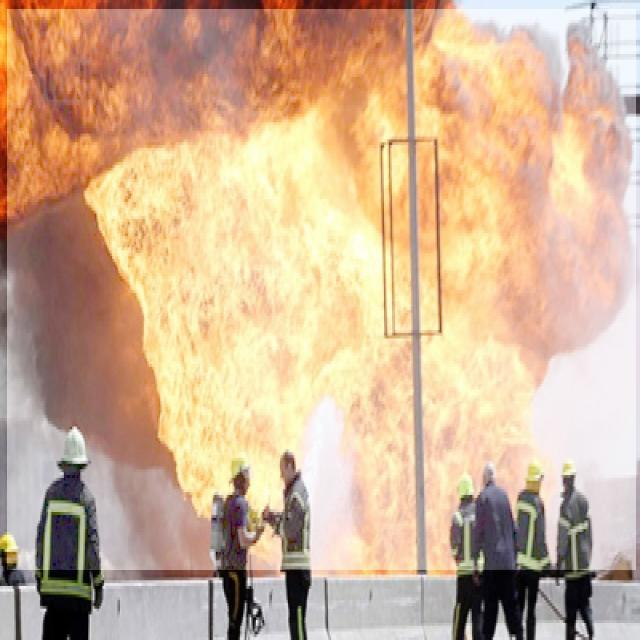Fire: (7, 9, 636, 570)
